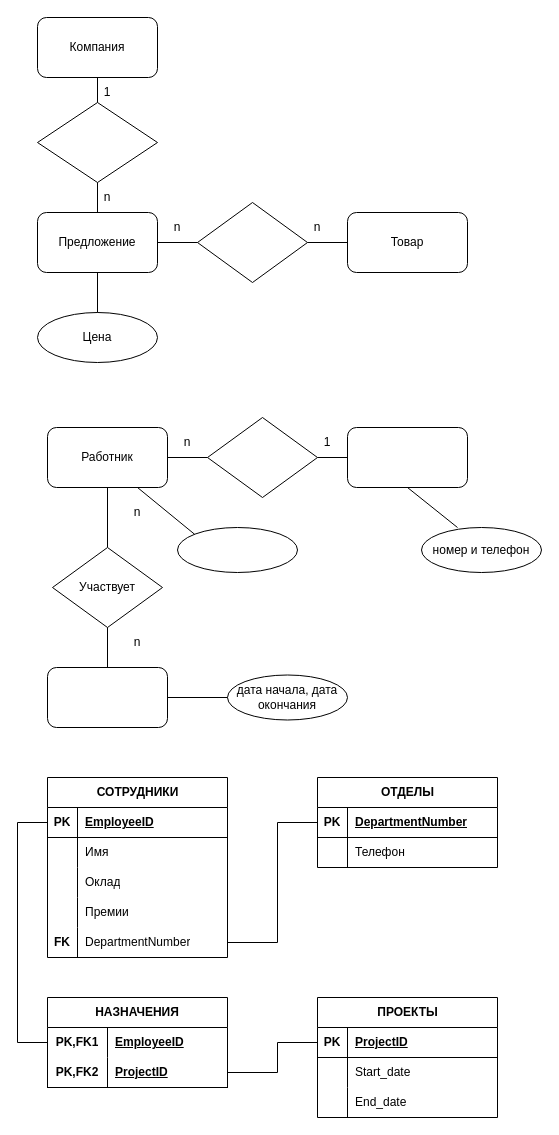
Some shapes in this 559 by 1135 pixel diagram are drawn without their labels. The shapes that lost their labels are listed below. From the top down, each one's centre as x and y in pixels, then its label:
point (97, 142): Выставляет
point (252, 242): Содержит
point (262, 457): Состоит в штате
point (407, 457): Отдел
point (237, 549): имя, оклад, премии
point (107, 697): Проект
